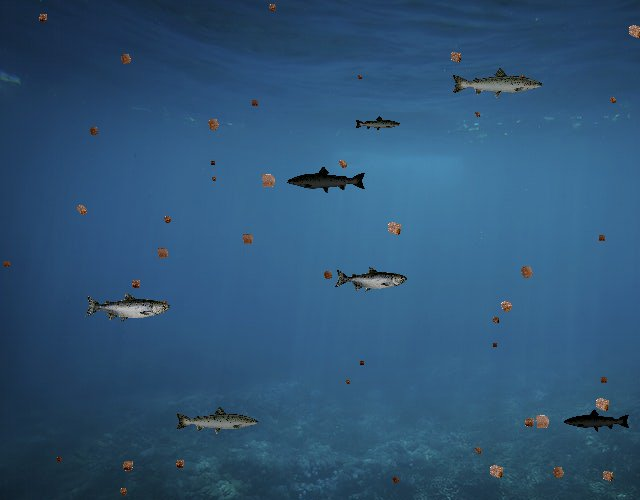Fish: (451, 66, 545, 100), (174, 405, 260, 436), (84, 292, 170, 323), (287, 165, 368, 195), (335, 266, 408, 292), (563, 408, 631, 433), (354, 116, 401, 133)
Pellet: (514, 259, 540, 285), (494, 294, 519, 319), (70, 199, 92, 221), (488, 313, 502, 327), (208, 174, 218, 184)
